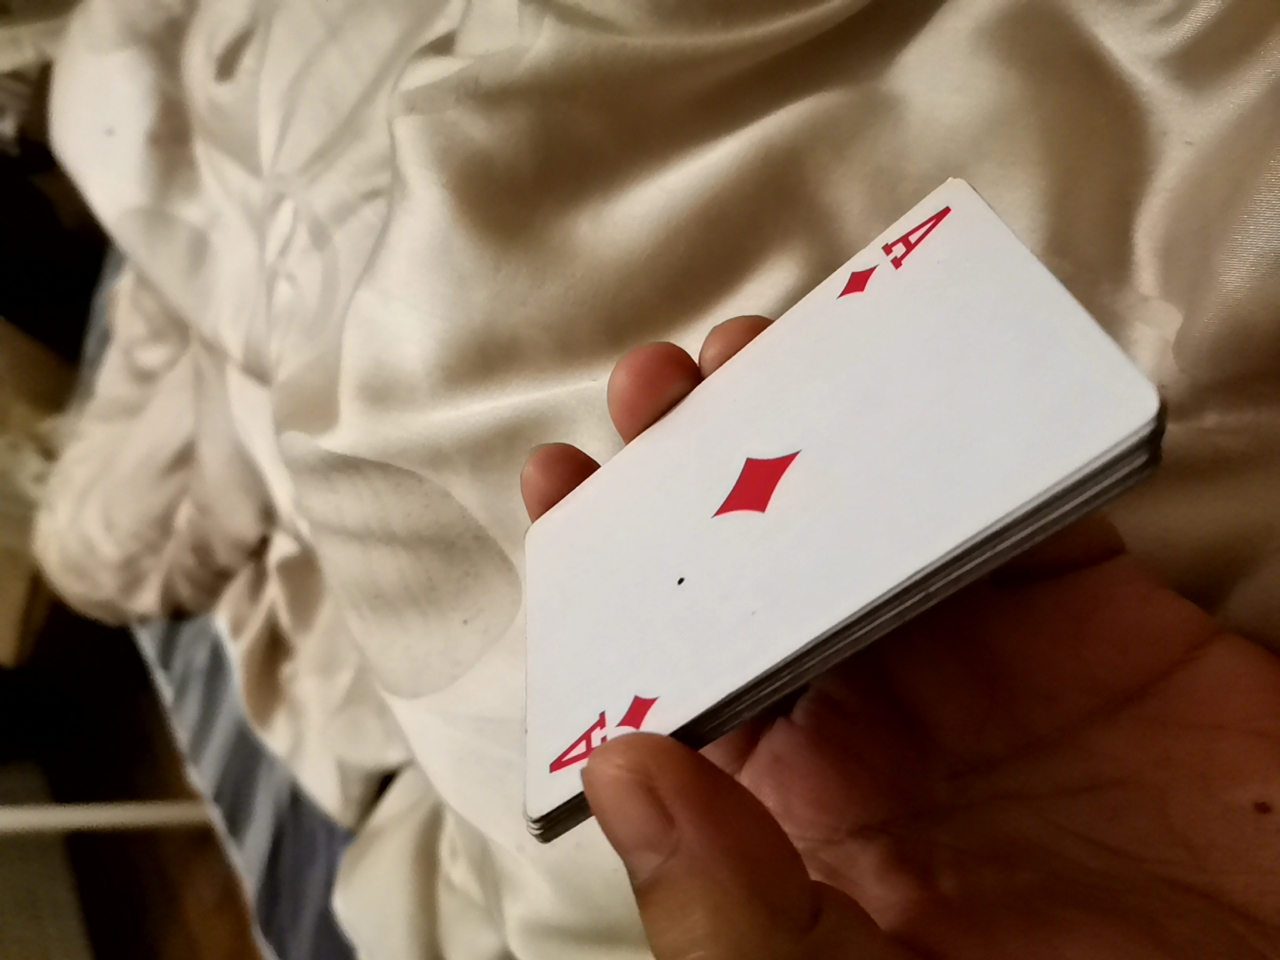fk a: (449, 240, 1077, 807)
